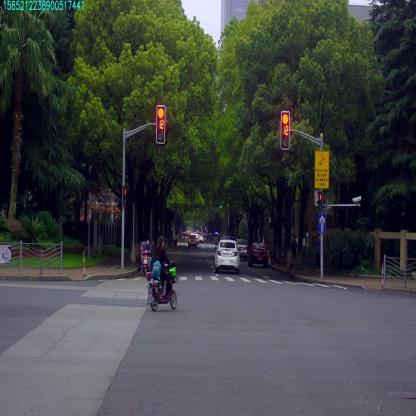traffic-light: (156, 106, 165, 142), (281, 112, 289, 148)
